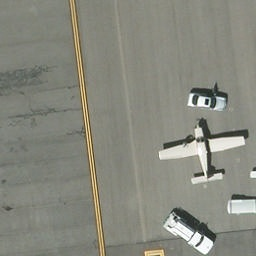car: (188, 89, 230, 113)
plane: (151, 119, 250, 187)
